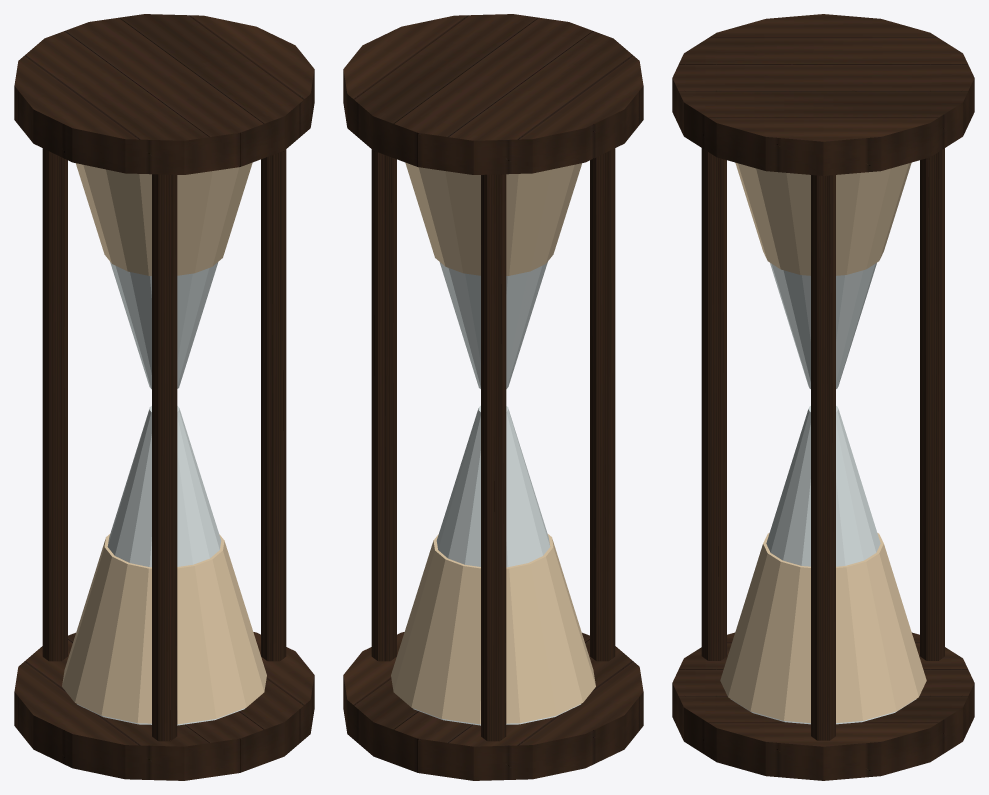
The model's file is hourglass.glb.
3 views of the same model, side by side, from view 1: azimuth 30°, elevation 25°; view 2: azimuth 150°, elevation 25°; view 3: azimuth 270°, elevation 25° (orthographic).
Visible parts, largest first — view 1: Hourglass; view 2: Hourglass; view 3: Hourglass.
Part boxes in pixels (x1=…): Hourglass: x1=14, y1=14, x2=314, y2=780; Hourglass: x1=343, y1=14, x2=643, y2=780; Hourglass: x1=672, y1=14, x2=974, y2=780.
Bounding box in the file's own units: 0.12 × 0.28 × 0.12.
Materials: 3 (1 with a texture image).
